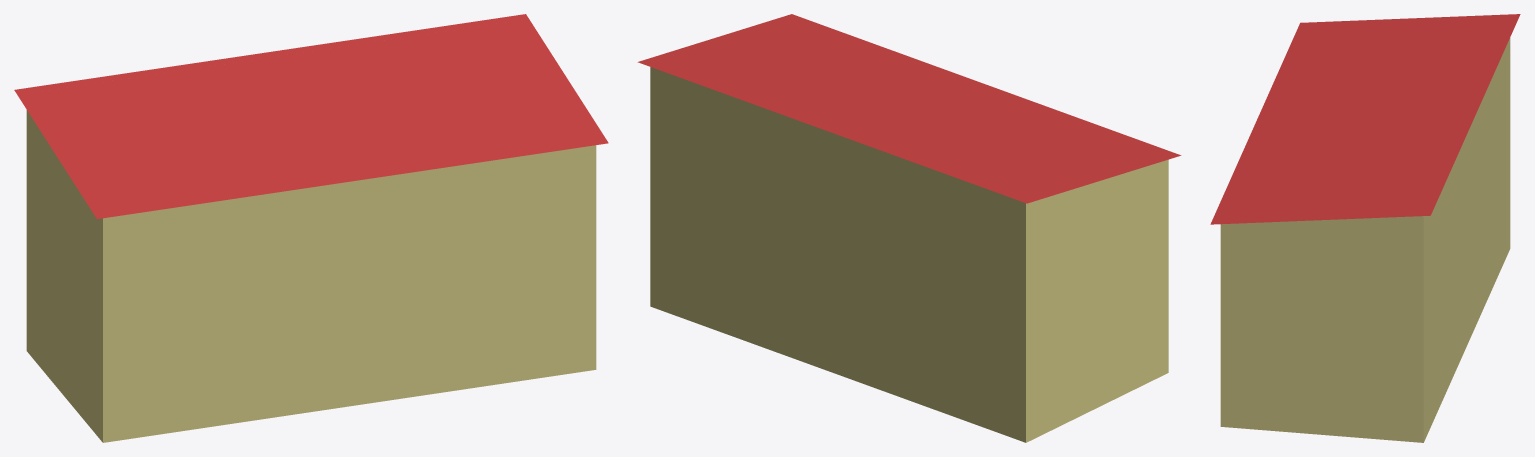
The picture shows the model from 3 angles, left to right: view 1: azimuth 30°, elevation 25°; view 2: azimuth 150°, elevation 25°; view 3: azimuth 270°, elevation 25°; orthographic projection. The views are drawn at different scales.
Size of the model in its own units: 14.8 by 8.85 by 7.28.
